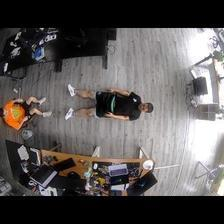fall: (64, 82, 153, 121)
normal: (1, 96, 52, 131)
